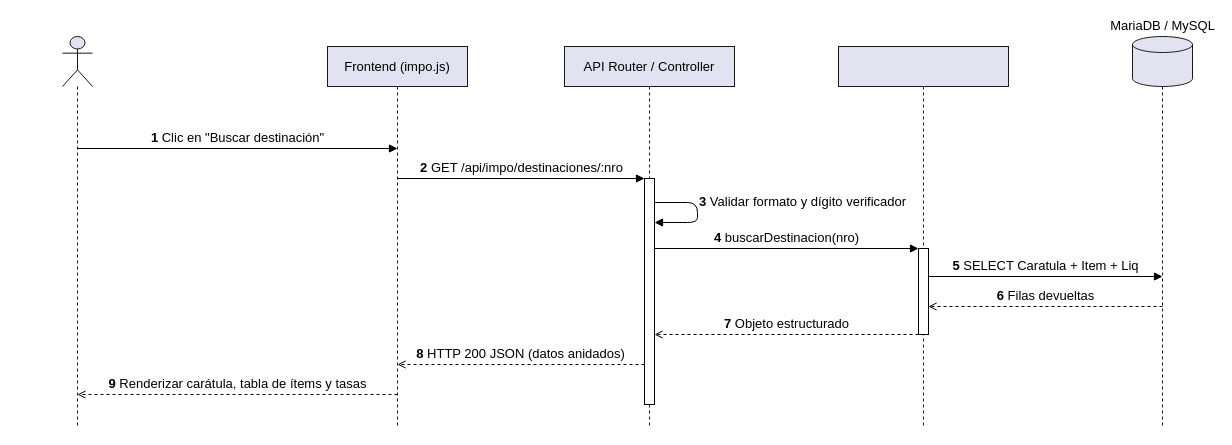
This 1232x445 diagram has some shape labels left out. Each missing label, with the box of its shape:
Model (impo.model.js): (838, 46, 1008, 426)
Usuario (Navegador): (62, 36, 92, 86)
